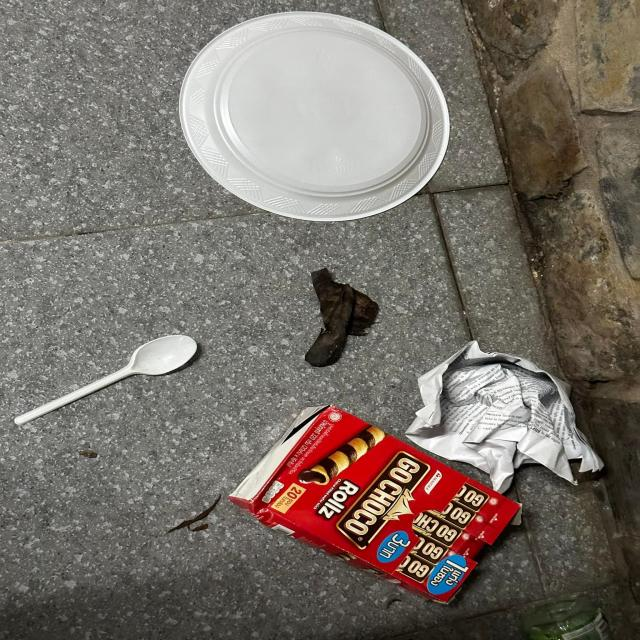cardboard box: (228, 405, 523, 604)
paper: (405, 340, 604, 495)
plastic utensil: (179, 11, 451, 222), (14, 334, 198, 426)
